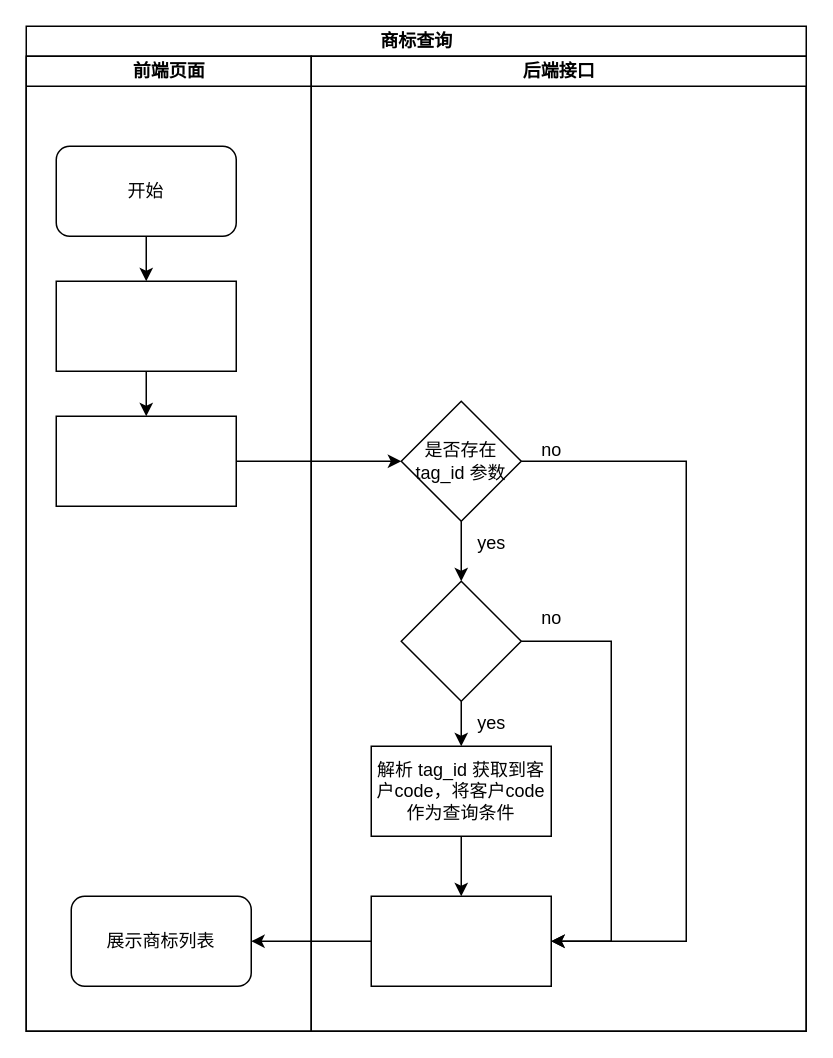
Some shapes in this 833 by 1058 pixel diagram are drawn without their labels. Each missing label, with the centre of its shape:
前端代码 存在 tag_id时 将 tag_id 作为参数传入查询商标接口: (x=145, y=460)
查询商标: (x=460, y=940)
消费者 输入商标名称作为查询条件: (x=145, y=325)
生产库查询 校验tag_id是否存在生产库: (x=460, y=640)
